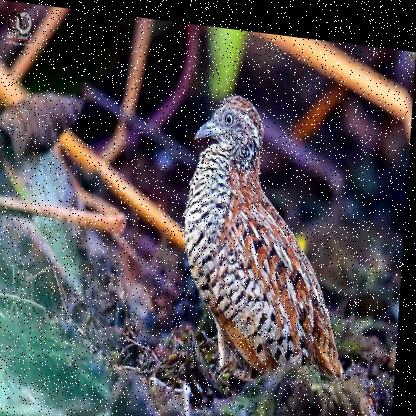Burung: (179, 83, 367, 374)
